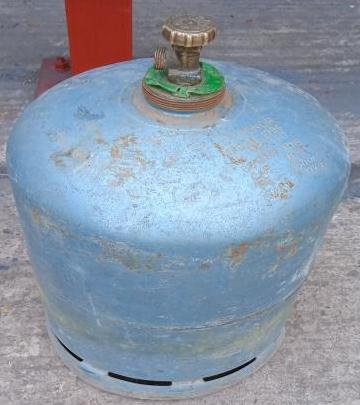cylinder: (1, 1, 360, 405)
